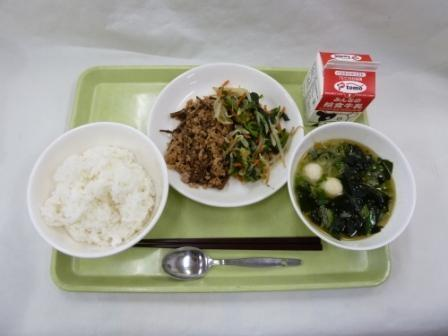Milk: (294, 42, 392, 131)
Rice: (18, 130, 175, 259)
Soups: (282, 129, 419, 246)
cooked food based on meat: (160, 96, 232, 191)
salad with sauce: (213, 80, 301, 188)
